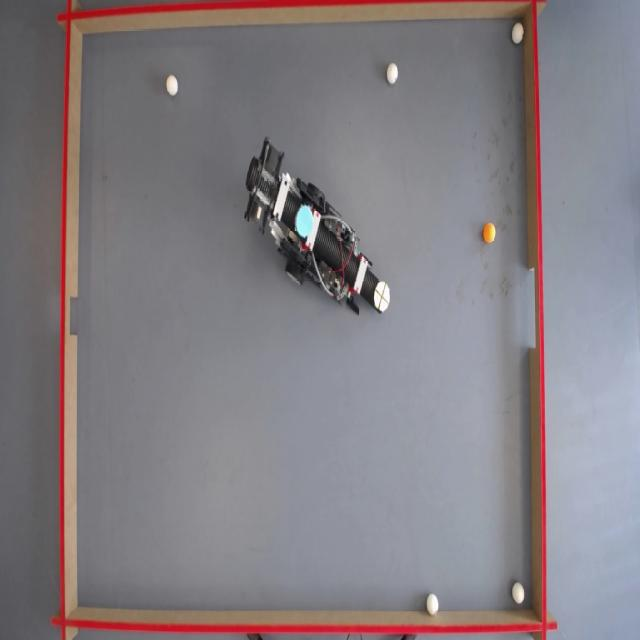orange: (483, 224, 497, 244)
robot: (246, 144, 396, 315)
robot-front: (375, 280, 392, 311)
robot-rear: (294, 204, 314, 240)
white: (513, 584, 527, 606), (512, 24, 526, 46), (426, 593, 440, 615), (386, 64, 399, 85), (167, 77, 180, 97)
